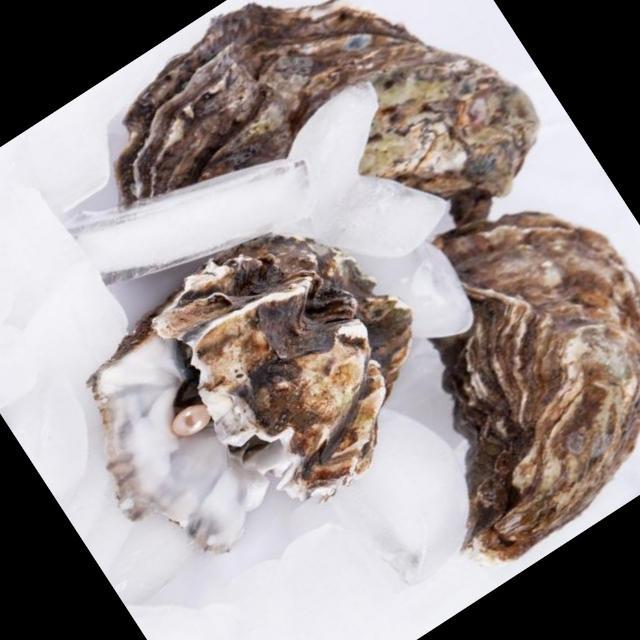Oyster- Indeterminate: (55, 0, 566, 376), (301, 155, 640, 590)
Oyster-Open: (29, 179, 474, 602)
